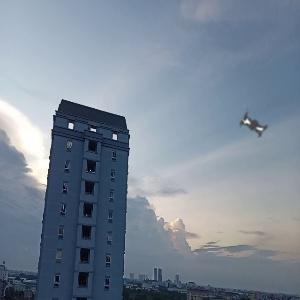drone: (220, 92, 292, 164)
